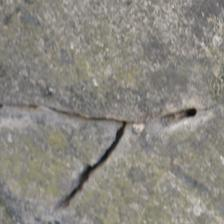Crack: (7, 44, 174, 161), (33, 175, 121, 210)
